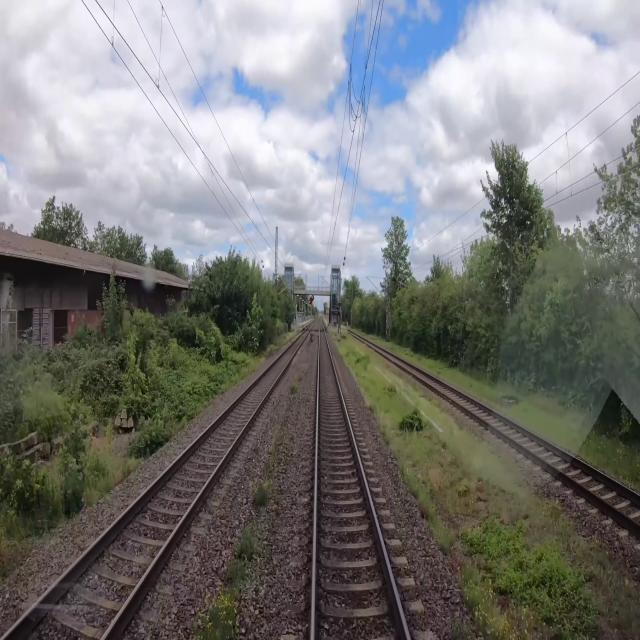Plant: (333, 333, 639, 639), (190, 516, 258, 639), (249, 422, 289, 509), (288, 381, 301, 401)
